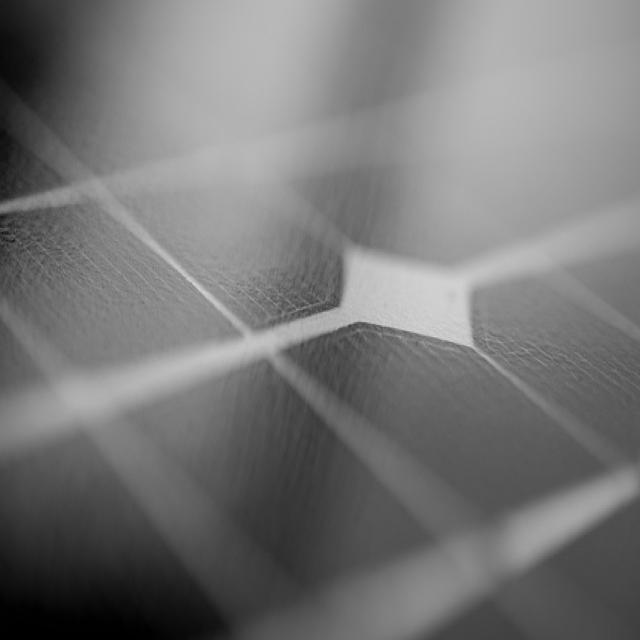clean-solar-panel: (1, 32, 640, 637)
